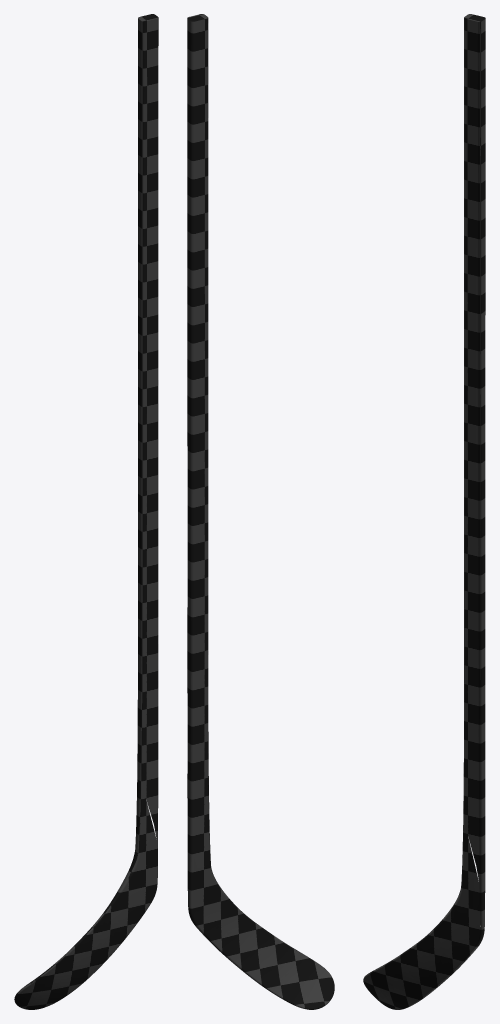
File: P25-1-4-ST-LIE4_5.glb
3 views of the same model, side by side, from view 1: azimuth 30°, elevation 25°; view 2: azimuth 210°, elevation 25°; view 3: azimuth 330°, elevation 25° (orthographic). The views are drawn at different scales.
Parts seen in each view (by area): view 1: geometry_0; view 2: geometry_0; view 3: geometry_0.
Part boxes in pixels (x1,y1,x2,y2): geometry_0: [14, 14, 158, 1009]; geometry_0: [187, 14, 334, 1009]; geometry_0: [363, 14, 485, 1009].
Bounding box in the file's own units: 225 × 1650 × 64.7.
Materials: 1 (1 with a texture image).
